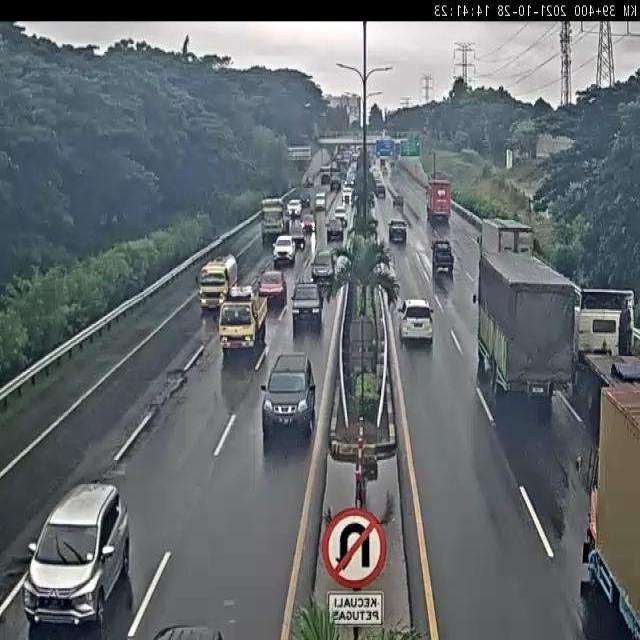Car: (23, 478, 130, 628), (261, 352, 317, 445), (398, 298, 434, 346), (258, 270, 288, 306), (310, 248, 335, 284), (272, 234, 297, 266), (334, 203, 348, 226), (286, 199, 302, 218), (301, 213, 315, 234), (341, 186, 353, 207), (314, 191, 326, 210)
Truck: (583, 377, 640, 639), (476, 255, 578, 400), (575, 286, 640, 411), (218, 285, 269, 355), (476, 216, 536, 266), (199, 252, 239, 312), (290, 280, 324, 336), (261, 198, 287, 248), (427, 176, 452, 224), (431, 240, 455, 276), (287, 218, 305, 251), (325, 216, 343, 242), (388, 219, 407, 243), (319, 165, 332, 183), (300, 192, 311, 208)
